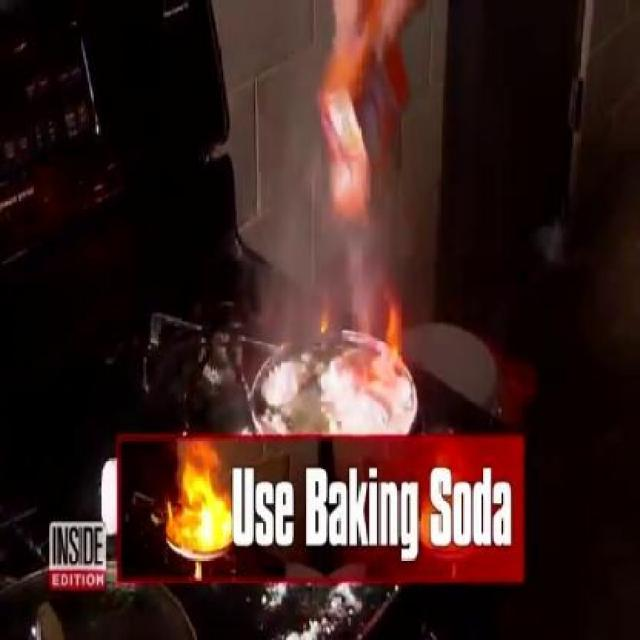fire: (160, 476, 225, 562), (378, 306, 409, 372)
smoke: (270, 234, 350, 370)
